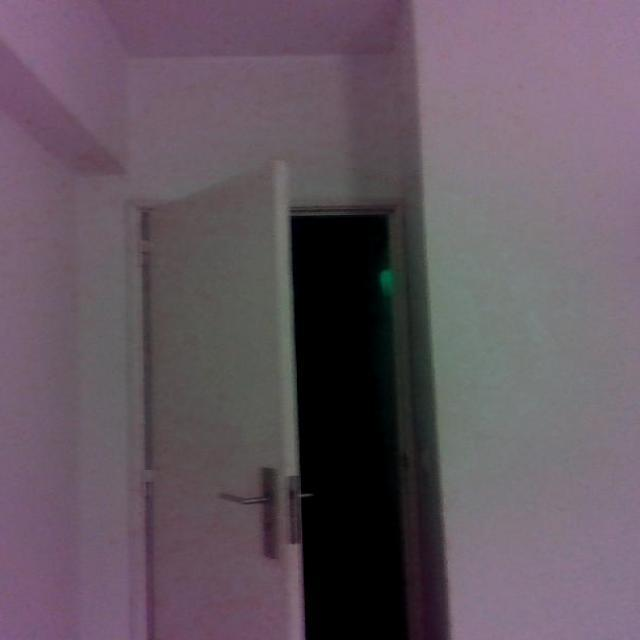door: (110, 160, 320, 640)
